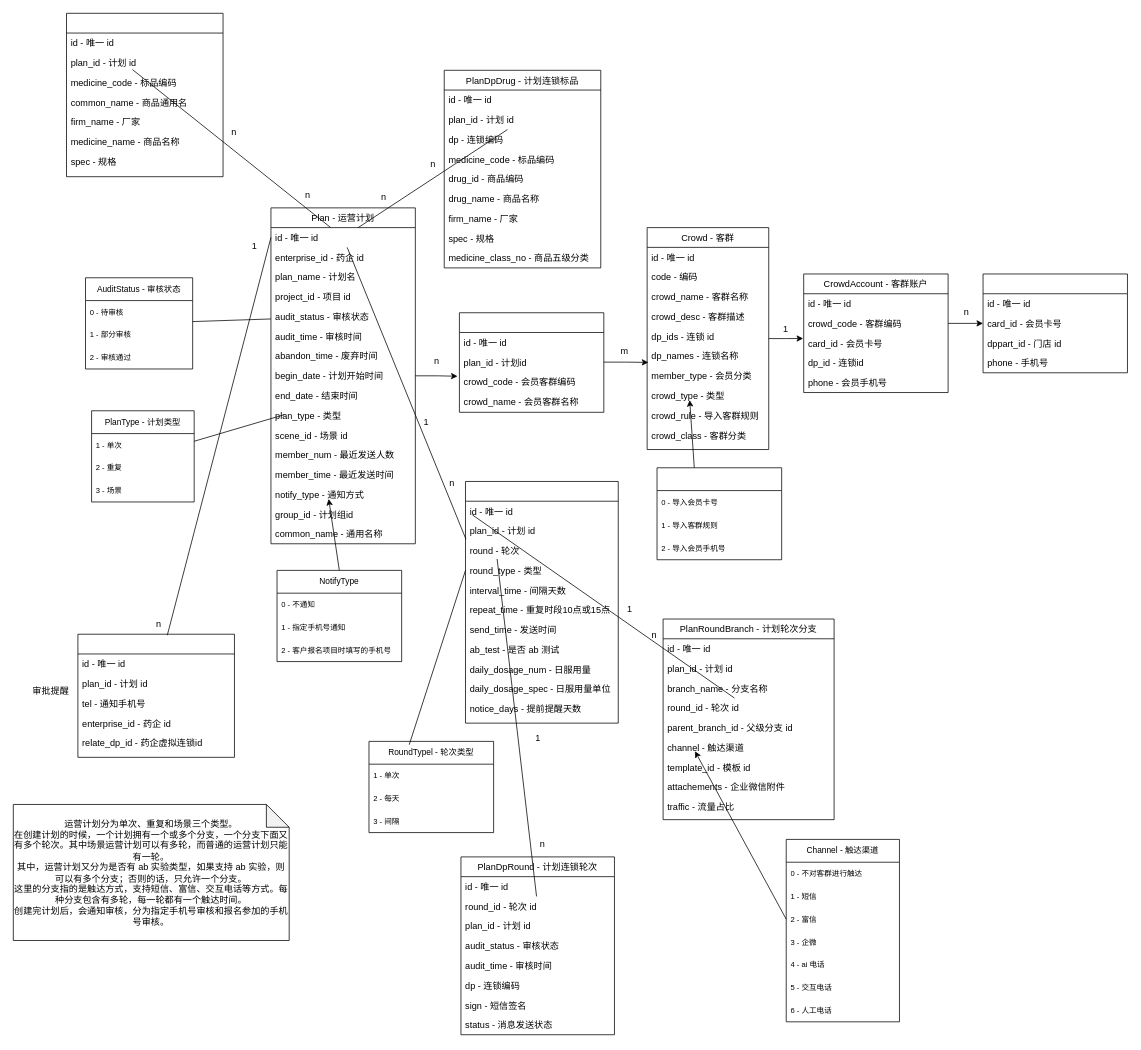
Some shapes in this 1141 by 1050 pixel diagram are drawn without their labels. Each missing label, with the box of its shape:
CrowdType - 客群导入类型: (656, 467, 782, 560)
PlanCrowd - 计划客群关联: (459, 312, 604, 412)
PlanMedicine - 药品: (66, 13, 223, 177)
PlanNotifyTel - 计划通知手机号: (77, 633, 234, 757)
PlanRound - 计划轮次: (465, 481, 618, 723)
连锁 id_Account - 账户: (982, 273, 1127, 373)
